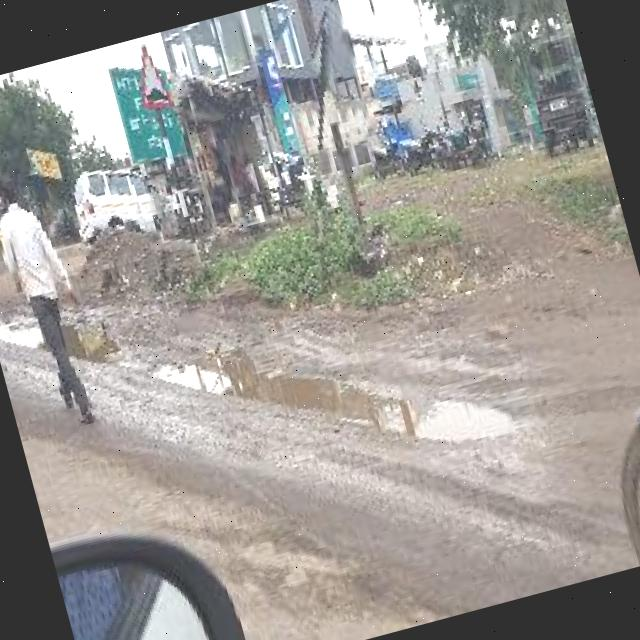stagnation: (133, 326, 535, 460)
